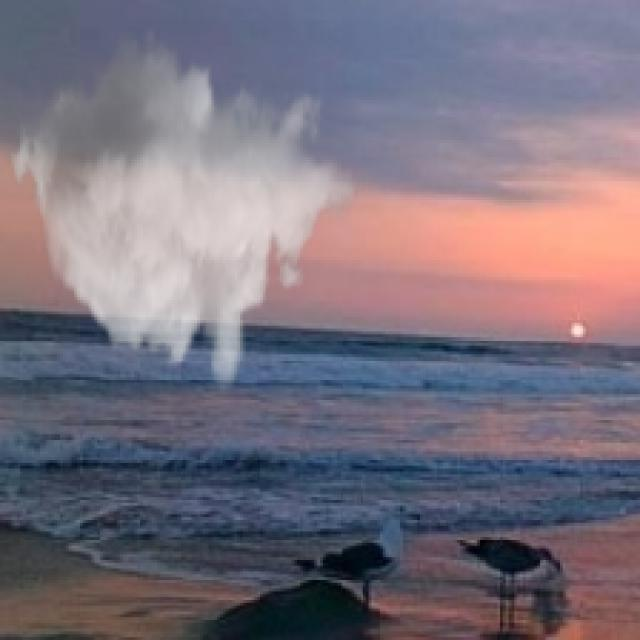smoke: (6, 20, 357, 391)
